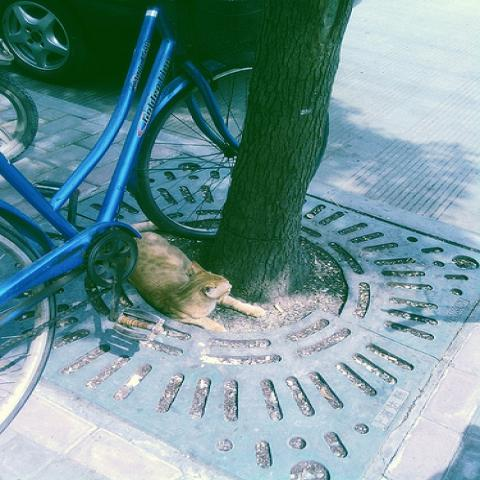car: (0, 1, 142, 85)
